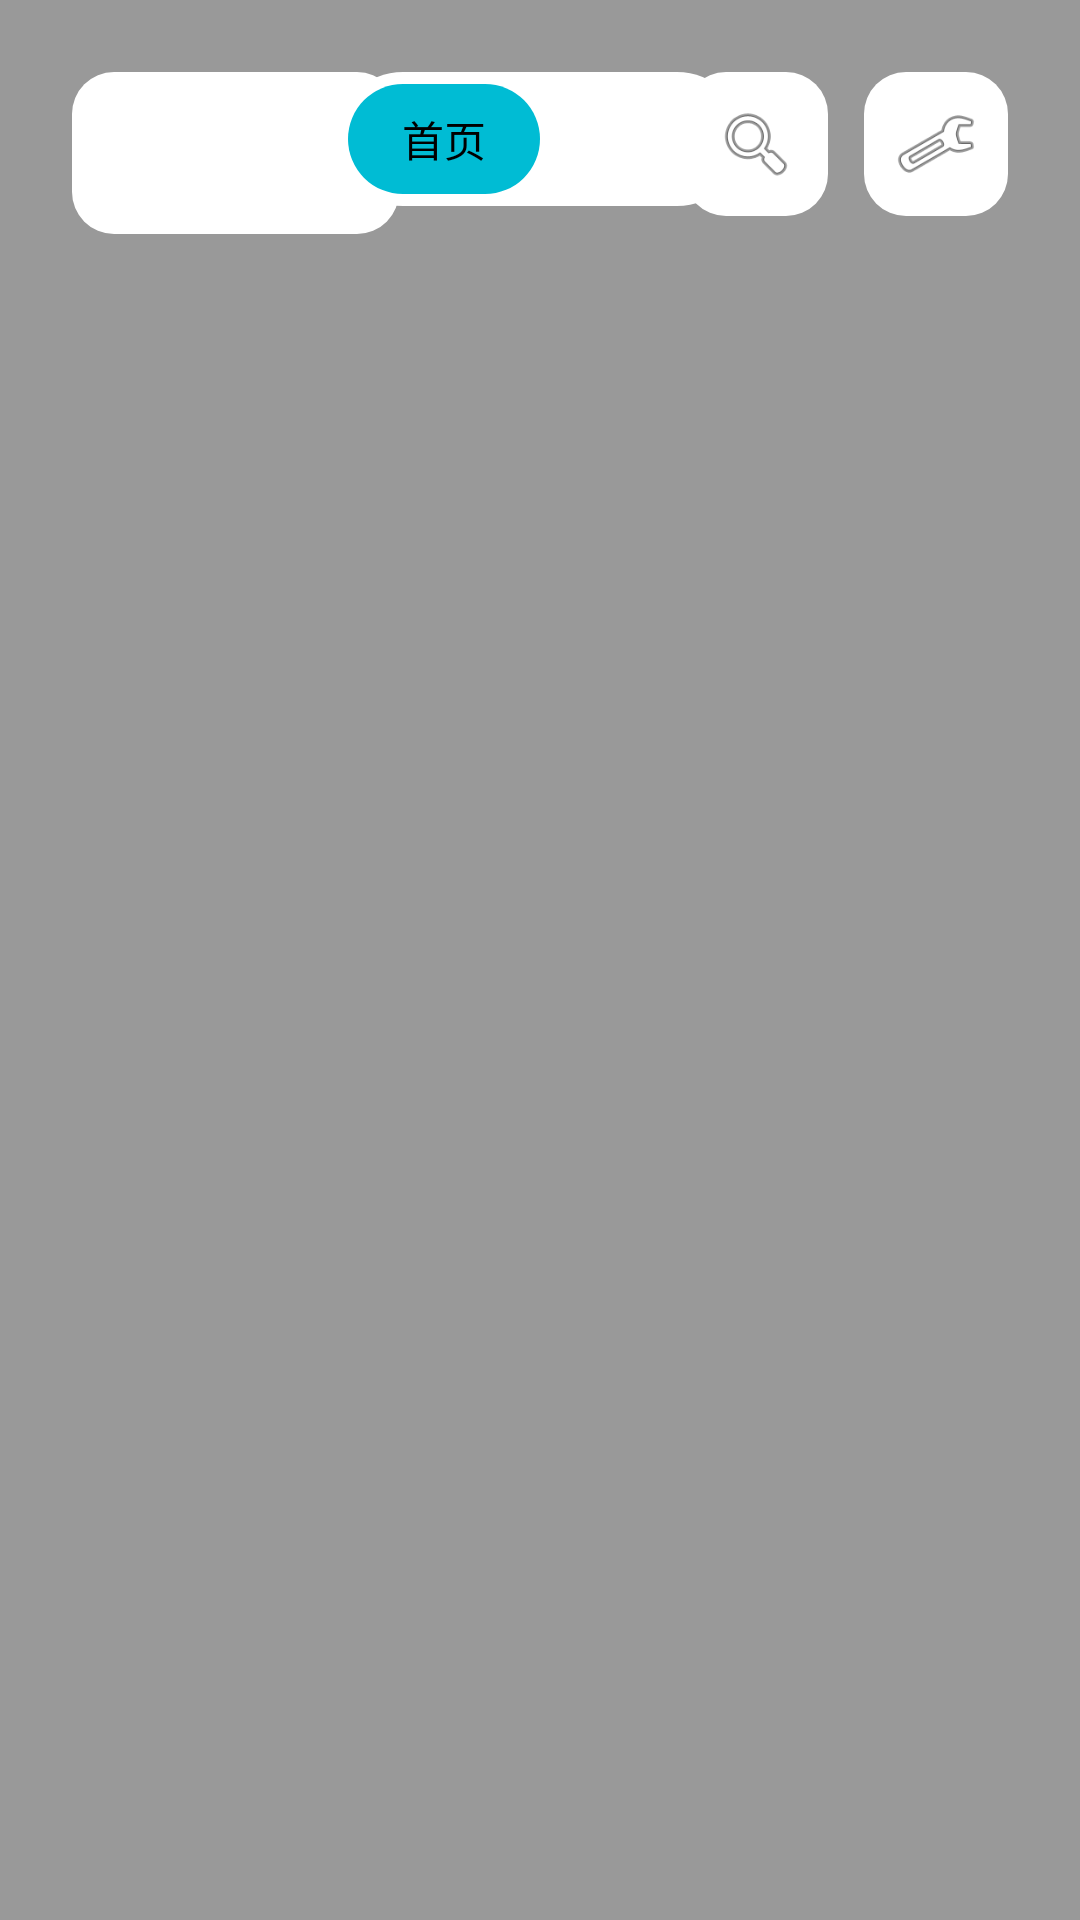

Icon click points for this 1080 × 1920 phone screenshot, format point (x, y):
Search: point (756, 144)
